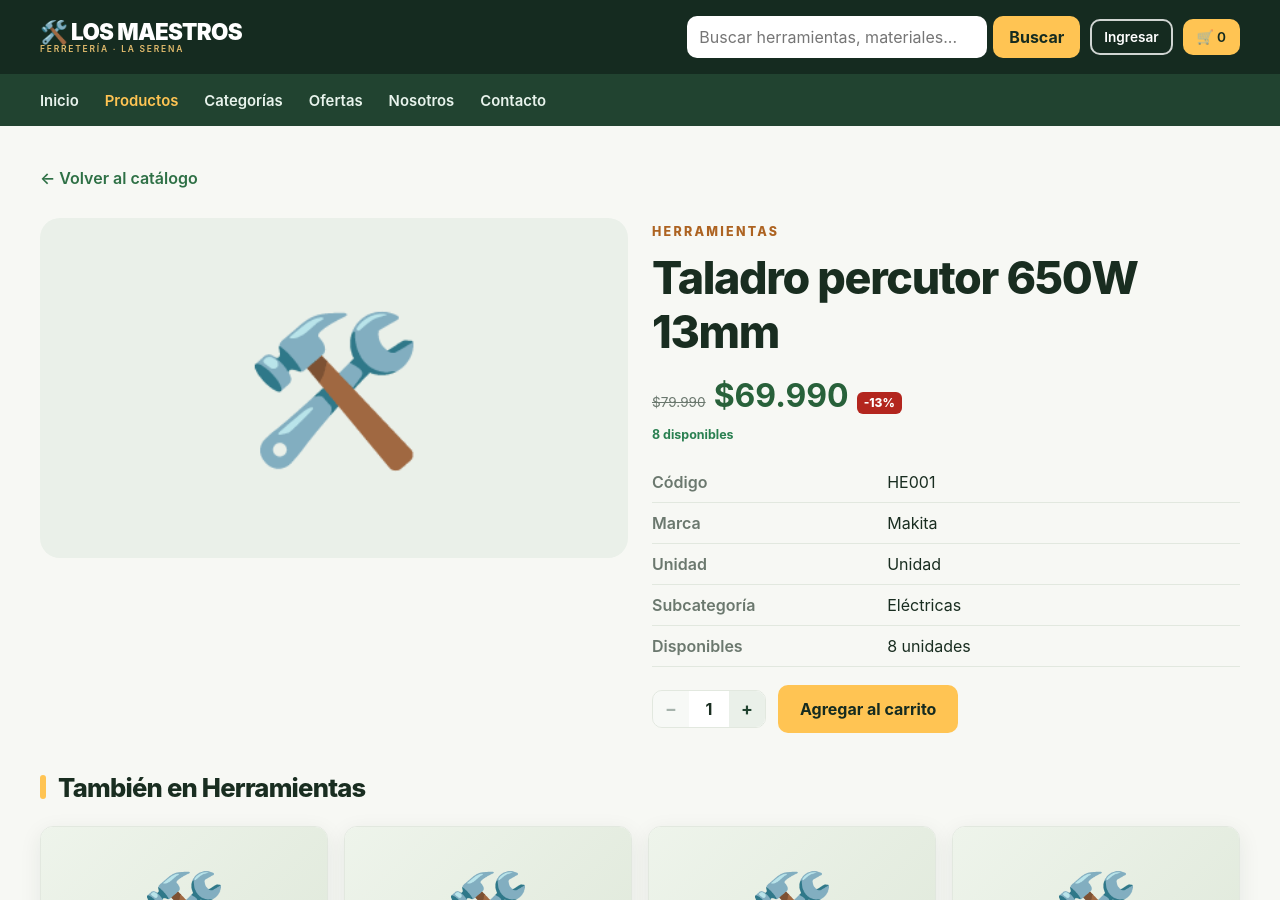
Tienda › P21 agregar desde el detalle actualiza el contador del carrito
Expected: the link named "Carrito, 0 unidades" is shown, [1183,19,1240,55]
Click the button named "Sumar uno" at (747, 709), box [729,691,765,727]
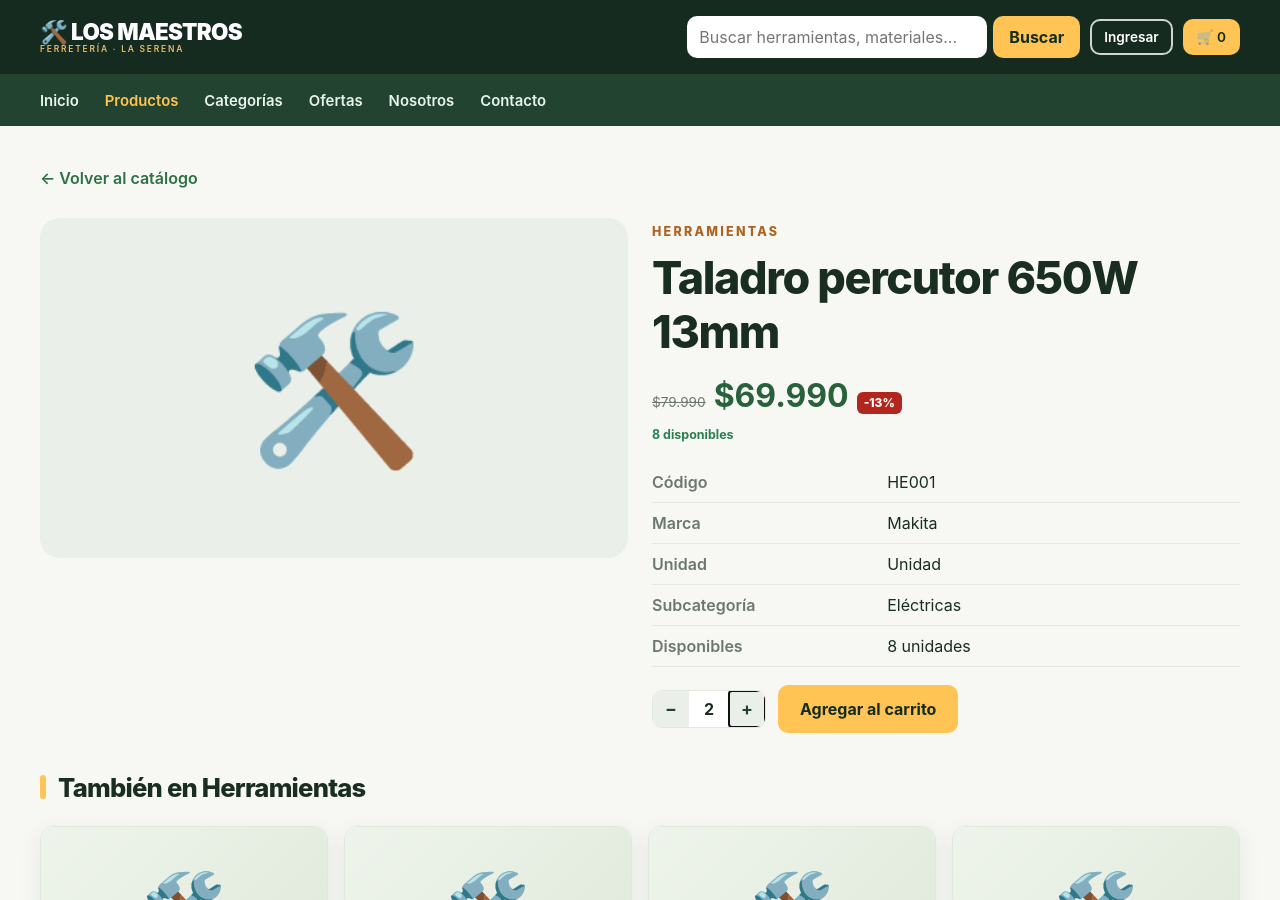
Click the button "Agregar al carrito" at (868, 709), box [778,685,958,733]
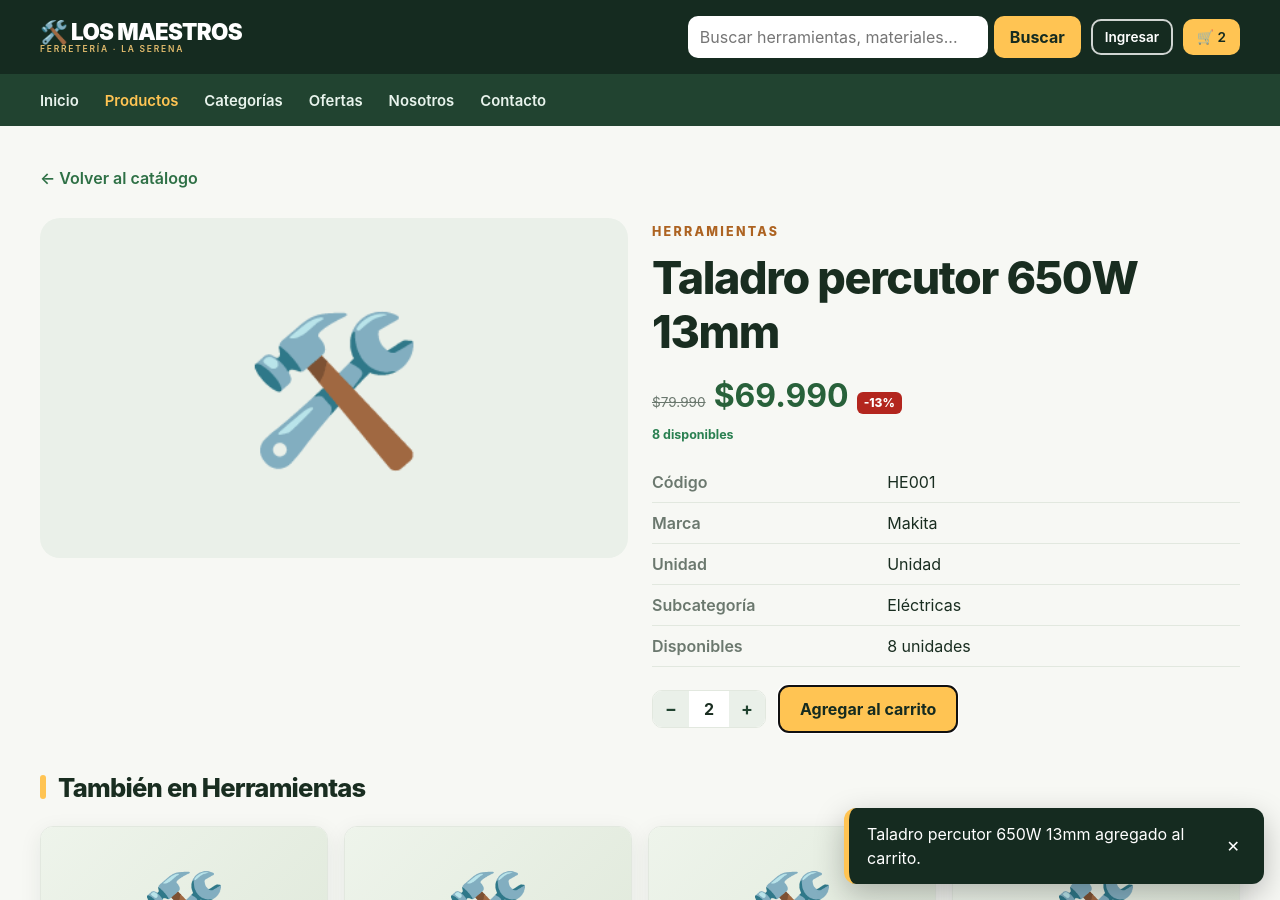
Expected: the link named "Carrito, 2 unidades" is shown, [1183,19,1240,55]
Expected: the message shows "agregado al carrito", [867,824,1184,868]
